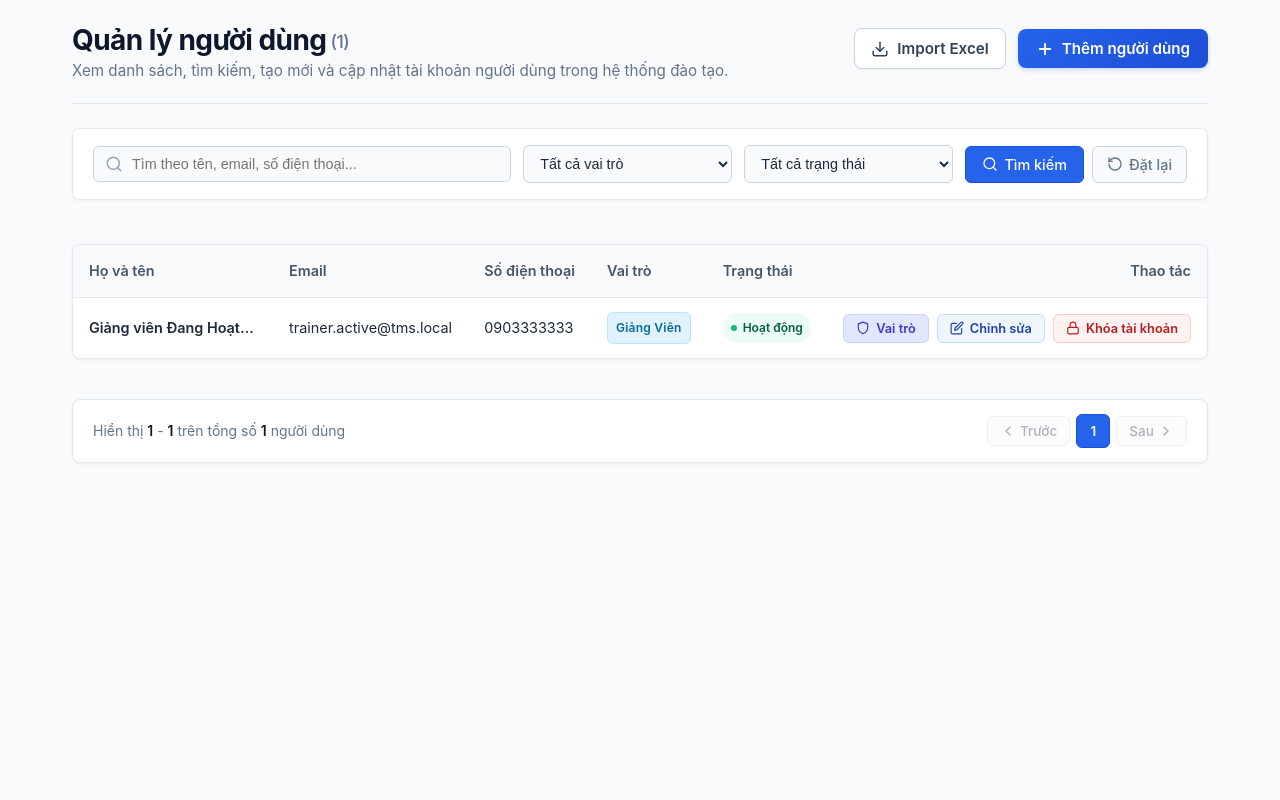
Scenario: SCRUM-110: Kiểm thử tổng thể giao diện khóa và mở khóa tài khoản (UI Overall Test Matrix) › B. Lock Operation Matrix › 3. thực hiện khóa tài khoản thành công: API POST, thông báo thành công và cập nhật badge
The image size is (1280, 800).
Click the button with test id "btn-lock-user-u-trainer-3" at (1122, 328), box [1053,314,1191,343]
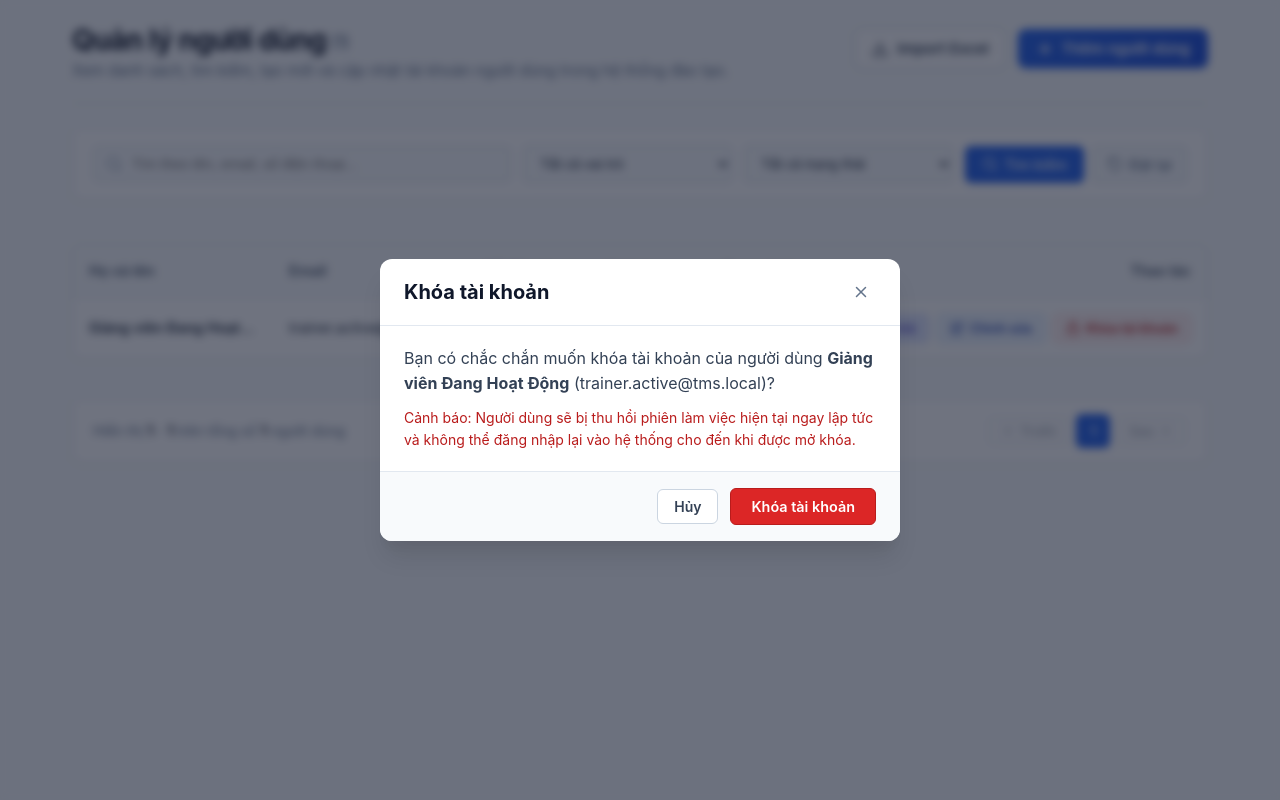
Click the button with test id "btn-confirm-lock" at (803, 507), box [730,488,876,526]
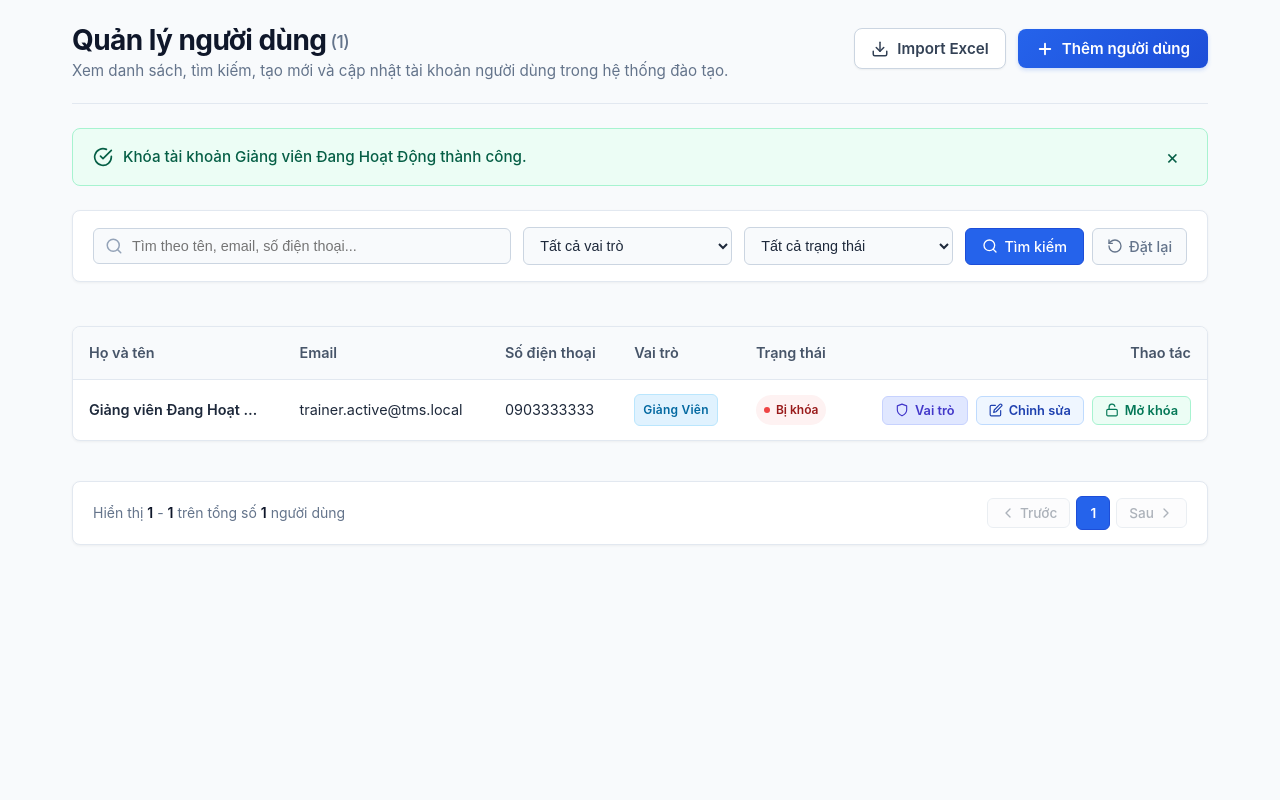
Expected: the dialog with test id "account-lock-modal" is gone
Expected: the message "Khóa tài khoản Giảng viên Đang Hoạt Động thành công. ×" is shown, [72,128,1208,186]
Expected: the text with test id "user-success-text" shows "Khóa tài khoản Giảng viên Đang Hoạt Động thành công", [123,147,526,166]
